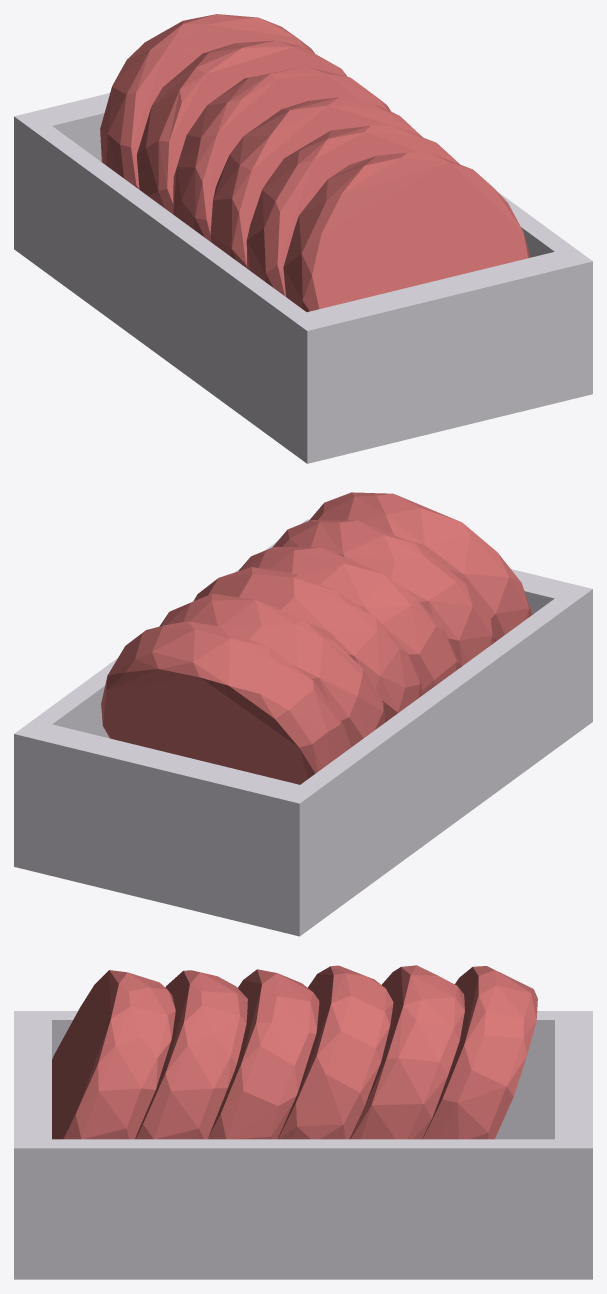
The model's file is E_MeatGenerator.fbx.
3 views of the same model, one above another, from view 1: azimuth 30°, elevation 25°; view 2: azimuth 150°, elevation 25°; view 3: azimuth 270°, elevation 25° (orthographic).
Parts seen in each view (by area): view 1: Cube, Cylinder.001; view 2: Cube, Cylinder.001; view 3: Cube, Cylinder.001.
Part boxes in pixels (bbox=[...]): Cube: bbox=[14, 93, 592, 463]; Cylinder.001: bbox=[100, 14, 529, 311]; Cube: bbox=[14, 519, 592, 936]; Cylinder.001: bbox=[101, 492, 532, 784]; Cube: bbox=[14, 1011, 592, 1279]; Cylinder.001: bbox=[52, 965, 537, 1139].
Size of the model in its own units: 18 by 14.2 by 32.
